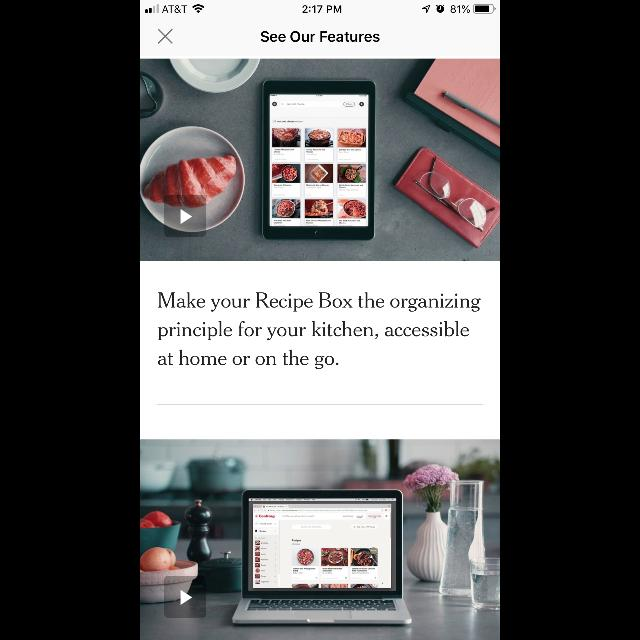icon: (158, 30, 174, 44), (181, 209, 193, 225), (181, 590, 193, 606)
image: (140, 59, 500, 261), (140, 440, 500, 640)
text: (158, 292, 480, 370), (260, 32, 380, 42)
uppertaskbar: (140, 0, 500, 14)
